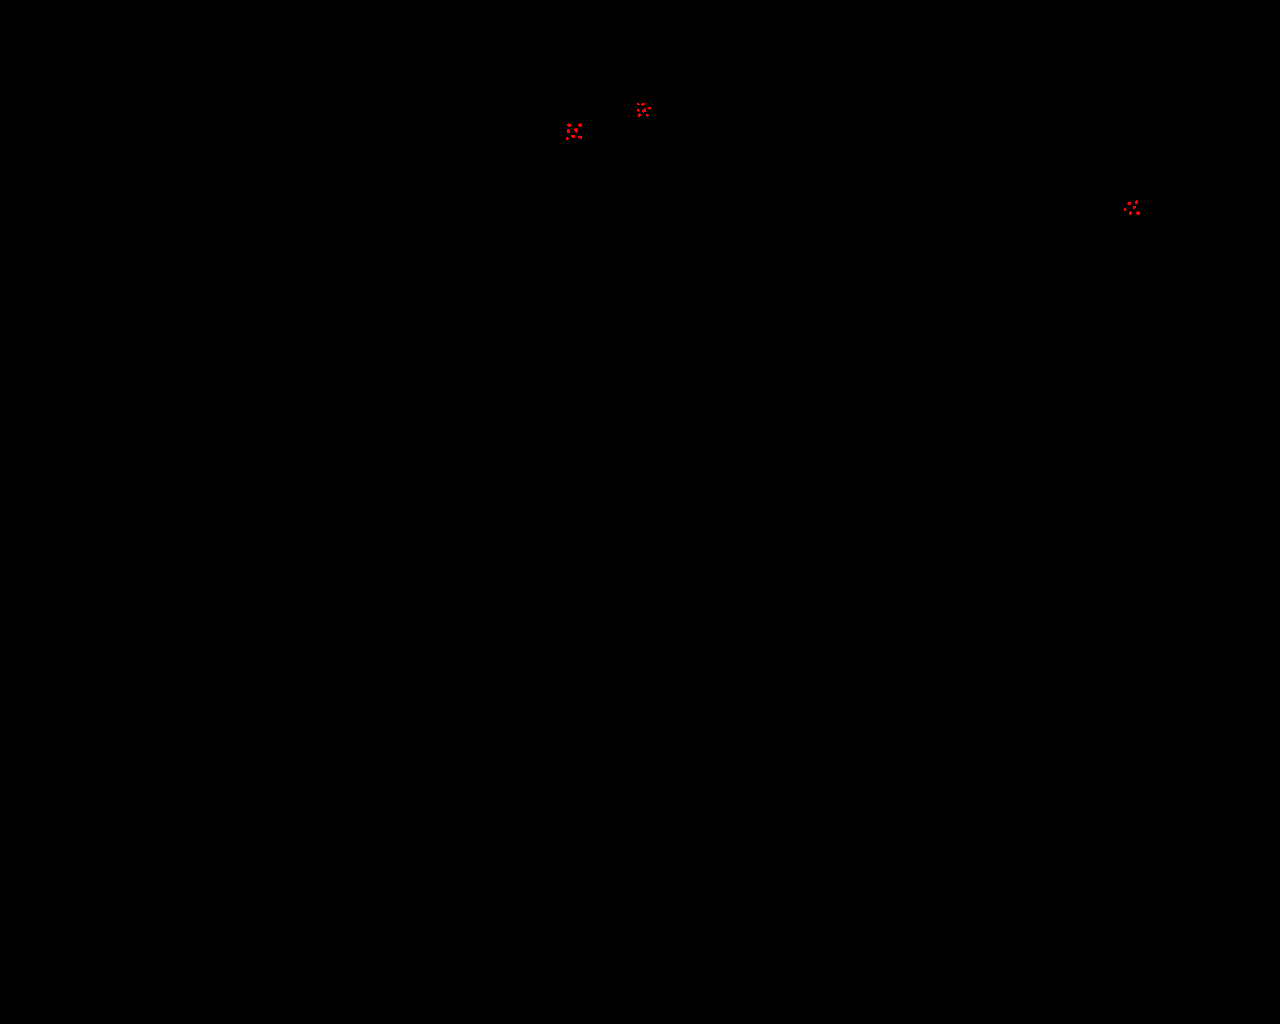Target: (642, 108, 646, 113), (574, 127, 578, 133), (578, 123, 582, 127), (1136, 211, 1140, 215), (567, 123, 571, 127), (567, 129, 571, 133), (571, 135, 575, 138), (578, 136, 582, 139), (1135, 200, 1138, 204), (1128, 211, 1132, 215), (648, 107, 651, 110), (646, 114, 649, 117), (566, 137, 569, 140), (1127, 202, 1131, 205), (1133, 206, 1136, 209), (1124, 208, 1127, 211), (641, 103, 645, 106), (638, 113, 641, 117), (637, 109, 639, 112), (637, 103, 639, 104)
